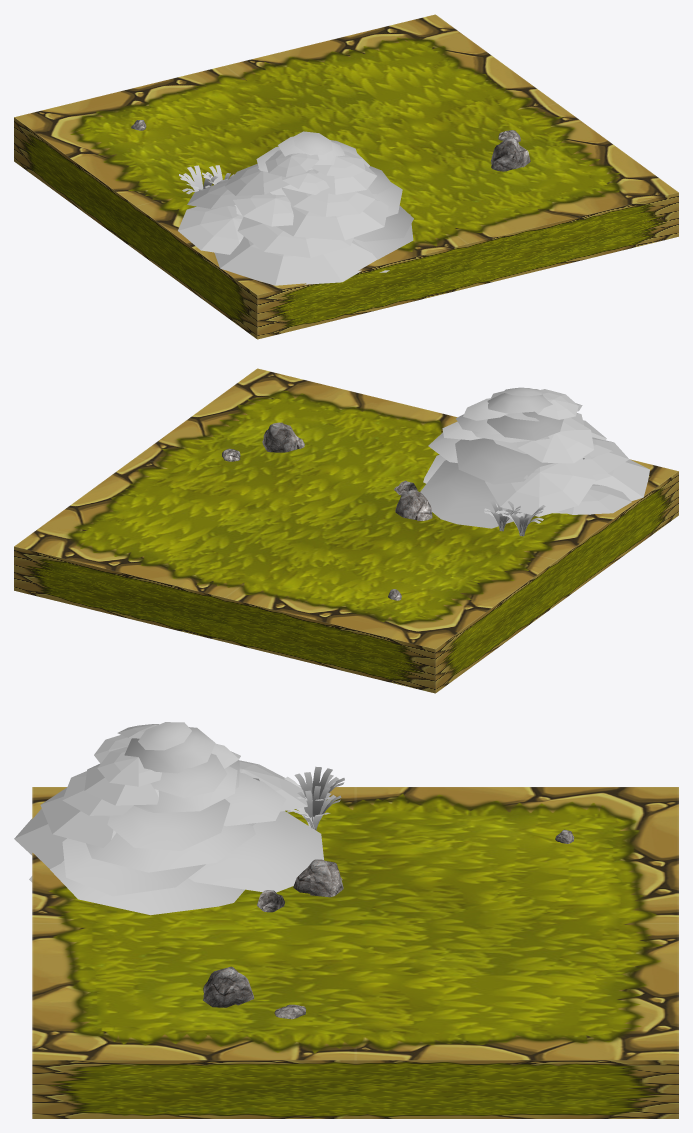
Rendered from bush.FBX.
The picture shows the model from 3 angles, top to bottom: view 1: azimuth 30°, elevation 25°; view 2: azimuth 150°, elevation 25°; view 3: azimuth 270°, elevation 25°; orthographic projection. The views are drawn at different scales.
Parts seen in each view (by area): view 1: Box001, Birch-003, Rock_006, FlowerB009; view 2: Box001, Birch-003, Rock_006, FlowerB009; view 3: Box001, Birch-003, Rock_006, FlowerB009.
Part boxes in pixels (x1=…): Box001: x1=14, y1=14, x2=678, y2=339; Birch-003: x1=178, y1=131, x2=413, y2=285; Rock_006: x1=131, y1=120, x2=530, y2=171; FlowerB009: x1=179, y1=165, x2=234, y2=194; Box001: x1=14, y1=368, x2=678, y2=693; Birch-003: x1=420, y1=387, x2=649, y2=528; Rock_006: x1=222, y1=422, x2=432, y2=600; FlowerB009: x1=484, y1=499, x2=545, y2=536; Box001: x1=32, y1=787, x2=678, y2=1118; Birch-003: x1=14, y1=722, x2=323, y2=915; Rock_006: x1=203, y1=829, x2=574, y2=1019; FlowerB009: x1=284, y1=766, x2=344, y2=830.
Bounding box in the file's own units: 102 × 31.4 × 103.
